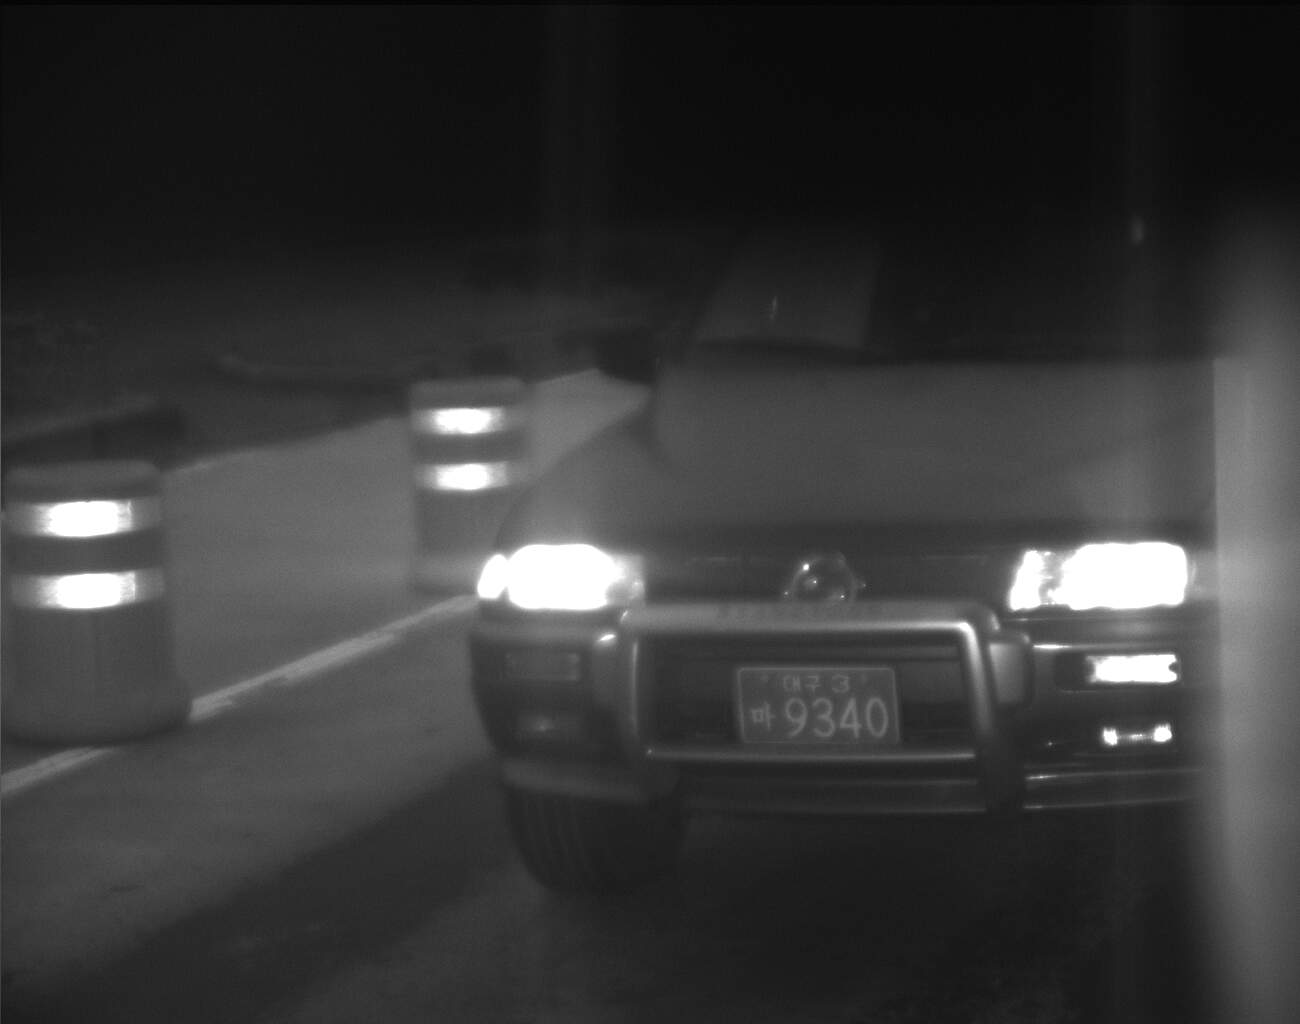car: (466, 222, 1206, 909)
plate: (729, 664, 905, 755)
